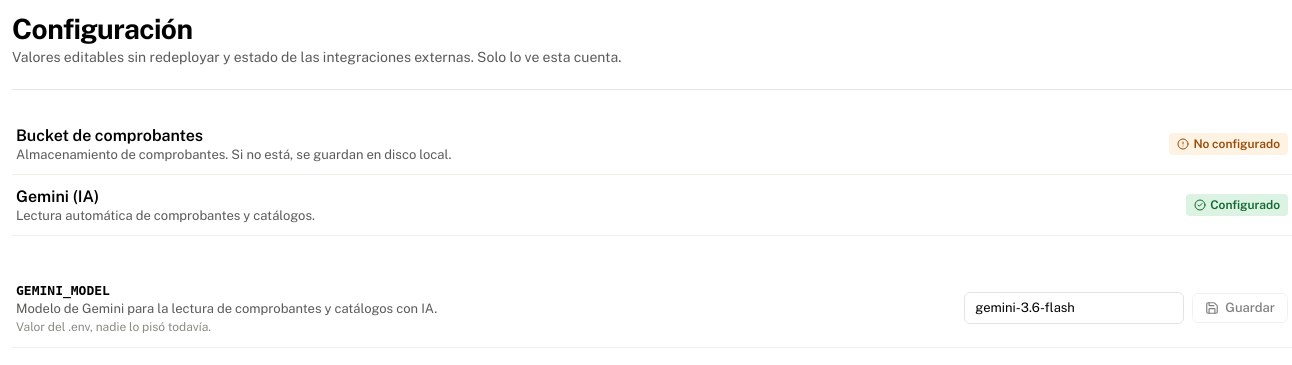
Scenario: GestionConfiguracion (página de Manager) › el botón Guardar arranca deshabilitado hasta que se edita el valor
Expected: the button "Guardar" is disabled, [1192, 292, 1288, 322]
Replace the text in the field showing "gemini-3.6-flash" with "gemini-nuevo" at (1074, 308), box [964, 292, 1184, 324]
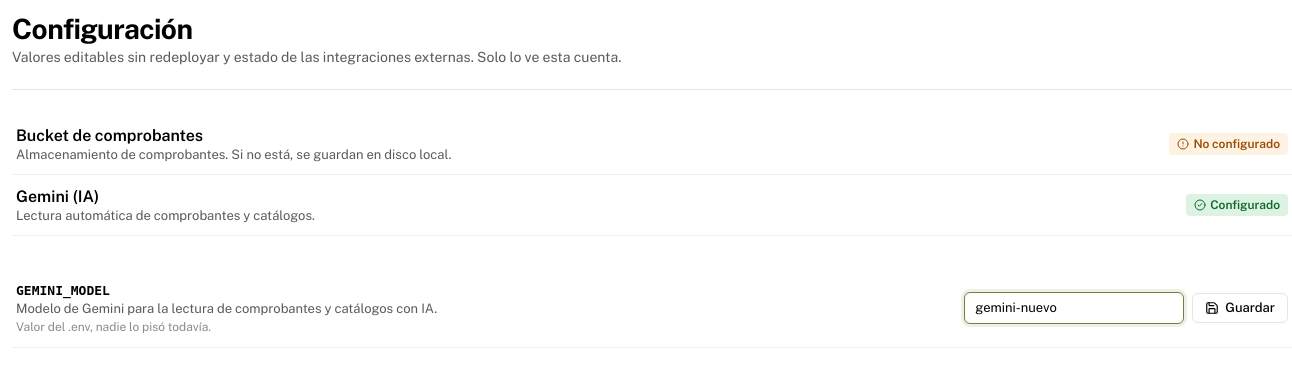
Expected: the button "Guardar" is enabled, [1192, 292, 1288, 322]
